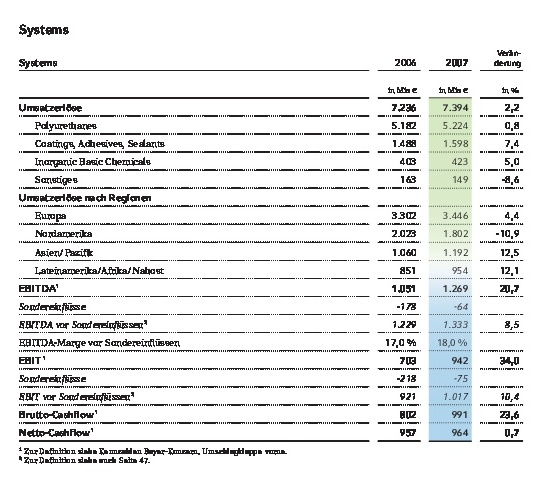table: (0, 0, 537, 479)
